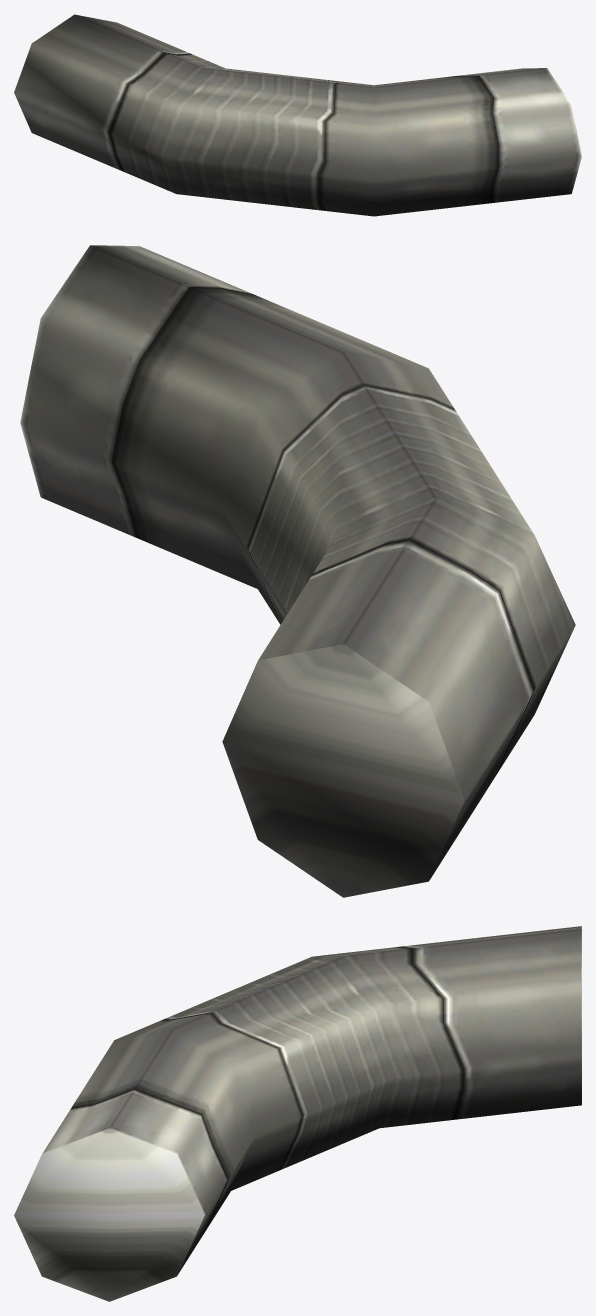
File: pipe2.glb
3 views of the same model, one above another, from view 1: azimuth 30°, elevation 25°; view 2: azimuth 150°, elevation 25°; view 3: azimuth 270°, elevation 25° (orthographic). The views are drawn at different scales.
Parts seen in each view (by area): view 1: Cylinder02; view 2: Cylinder02; view 3: Cylinder02.
Part boxes in pixels (x1,y1,x2,y2): Cylinder02: (14,14,581,216); Cylinder02: (20,245,575,897); Cylinder02: (14,926,581,1301).
Size of the model in its own units: 51.67 by 17.36 by 51.67.
1 material, 1 textured.
